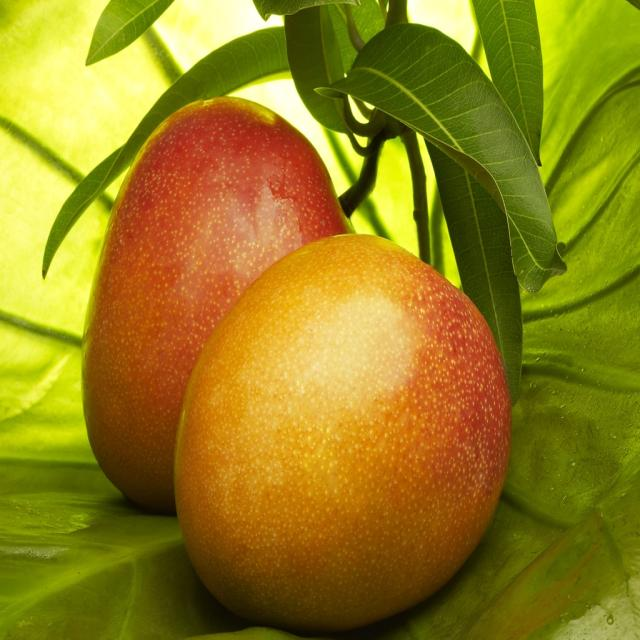mango: (170, 225, 522, 640), (80, 100, 352, 502)
